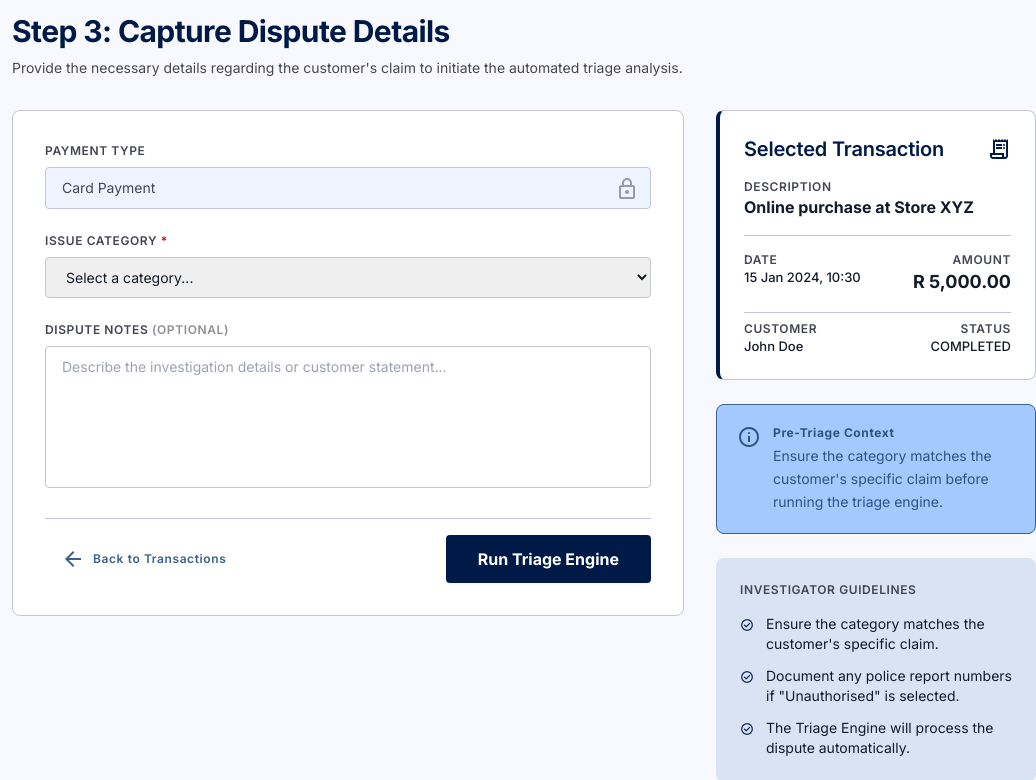
Test: DisputeCaptureForm › shows validation error when submitting without issue category
Click the button with test id "submit-dispute-button" at point(548, 559), box [446,535,651,583]
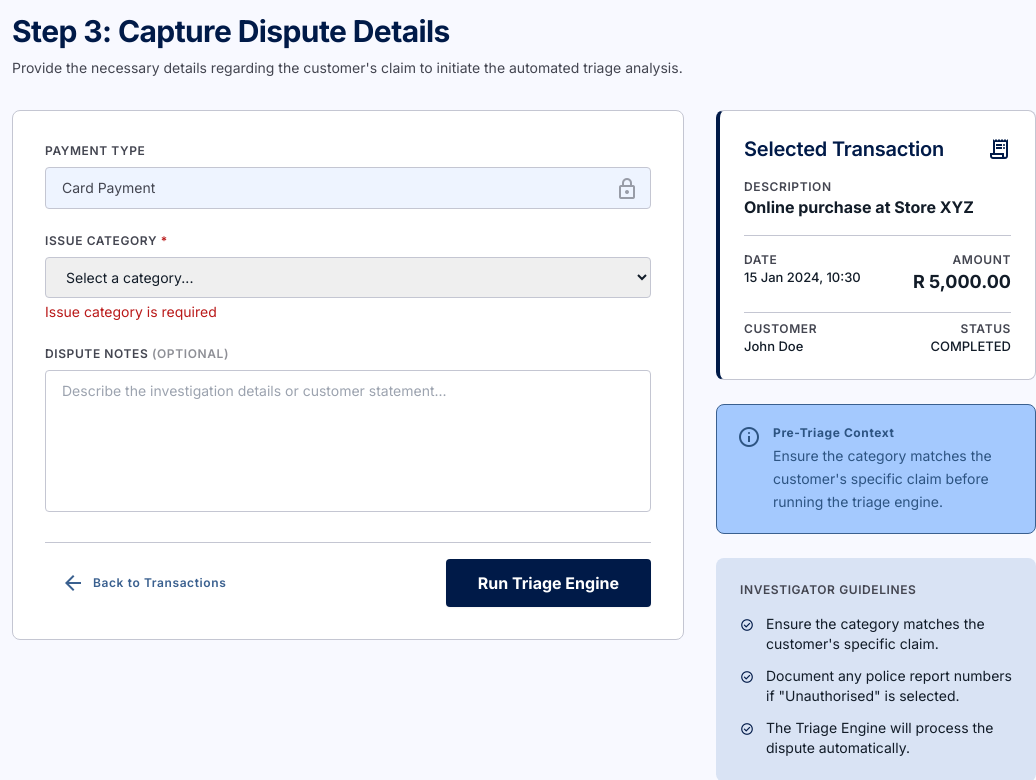
expect the text with test id "issue-category-error" reads "Issue category is required": met, box [45,303,217,320]
